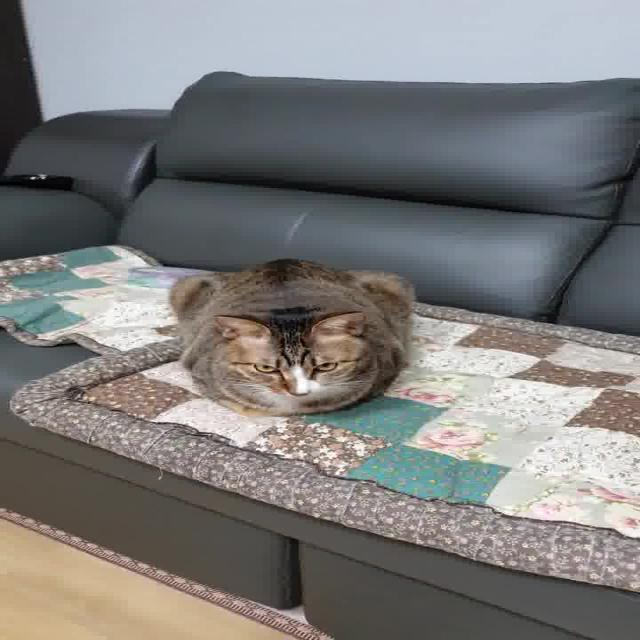cat: (159, 252, 437, 418)
